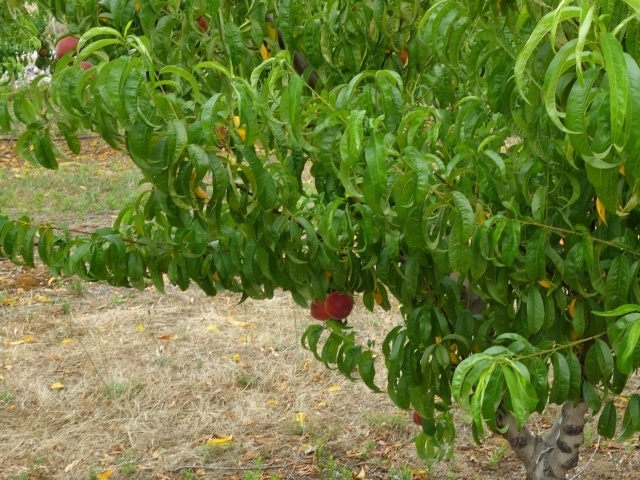peach: (50, 31, 87, 64), (321, 291, 356, 324), (307, 291, 333, 323)
